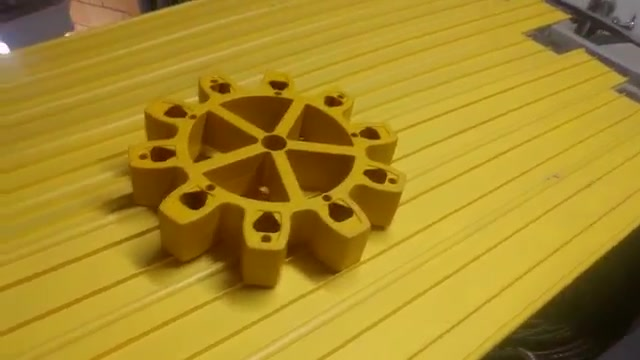gear: (112, 42, 424, 298)
